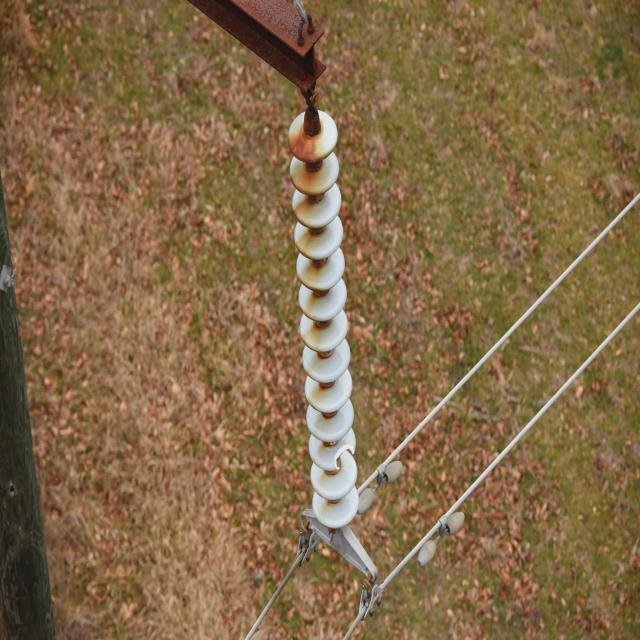broken: (333, 442, 356, 470)
insulator: (288, 109, 358, 532)
